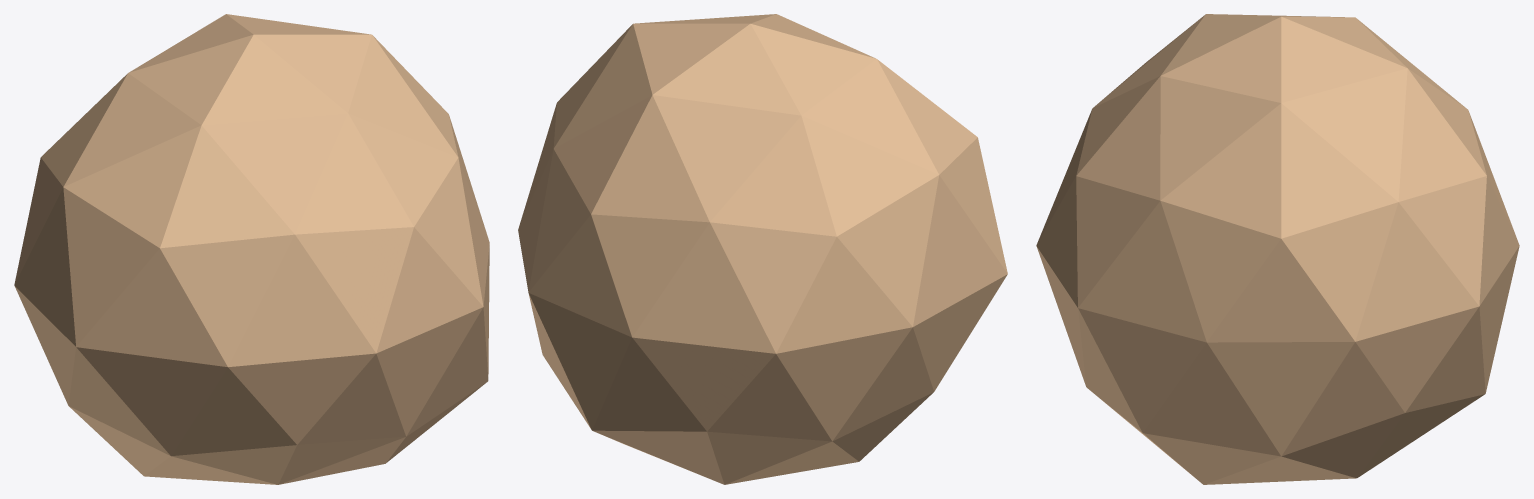
The model's file is food.glb.
3 views of the same model, side by side, from view 1: azimuth 30°, elevation 25°; view 2: azimuth 150°, elevation 25°; view 3: azimuth 270°, elevation 25° (orthographic).
Parts seen in each view (by area): view 1: food; view 2: food; view 3: food.
Boxes of the visible parts, <box> form: food: <box>14,14,489,484</box>; food: <box>518,14,1007,484</box>; food: <box>1036,14,1519,484</box>.
Size of the model in its own units: 1.54 by 1.56 by 1.55.
